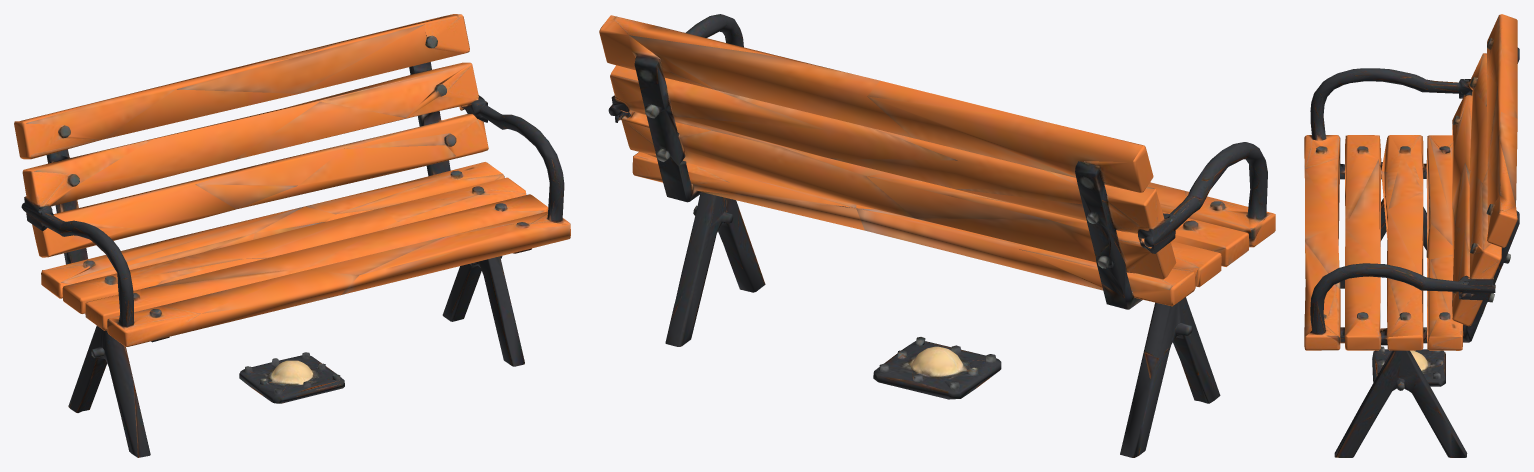
The model's file is bench-512.glb.
3 renders of one model, left to right at view 1: azimuth 30°, elevation 25°; view 2: azimuth 150°, elevation 25°; view 3: azimuth 270°, elevation 25°, orthographic. The views are drawn at different scales.
Size of the model in its own units: 1.9 by 1.12 by 0.8482.
1 material, 1 textured.
